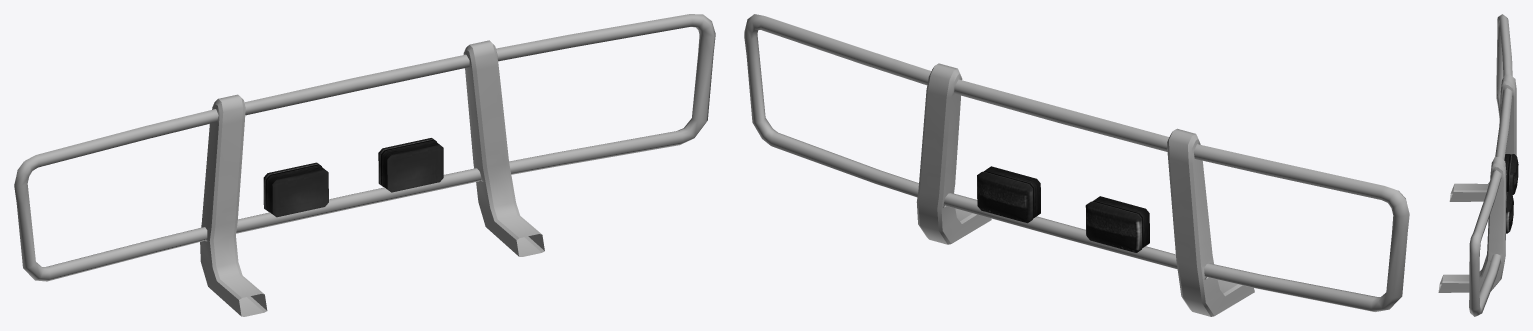
Rendered from shvan92_bullbar_b_ucb_bottom_0.003_lev3.glb.
3 views of the same model, side by side, from view 1: azimuth 30°, elevation 25°; view 2: azimuth 150°, elevation 25°; view 3: azimuth 270°, elevation 25° (orthographic). The views are drawn at different scales.
Visible parts, largest first — view 1: shvan92_bullbar_b_ucb_bottom_0.003_lev3; view 2: shvan92_bullbar_b_ucb_bottom_0.003_lev3; view 3: shvan92_bullbar_b_ucb_bottom_0.003_lev3.
Part boxes in pixels (bbox=[...]): shvan92_bullbar_b_ucb_bottom_0.003_lev3: bbox=[14, 14, 715, 316]; shvan92_bullbar_b_ucb_bottom_0.003_lev3: bbox=[744, 14, 1409, 316]; shvan92_bullbar_b_ucb_bottom_0.003_lev3: bbox=[1438, 14, 1518, 316].
Size of the model in its own units: 1.91 by 0.489 by 0.281.
Materials: 1 (1 with a texture image).
